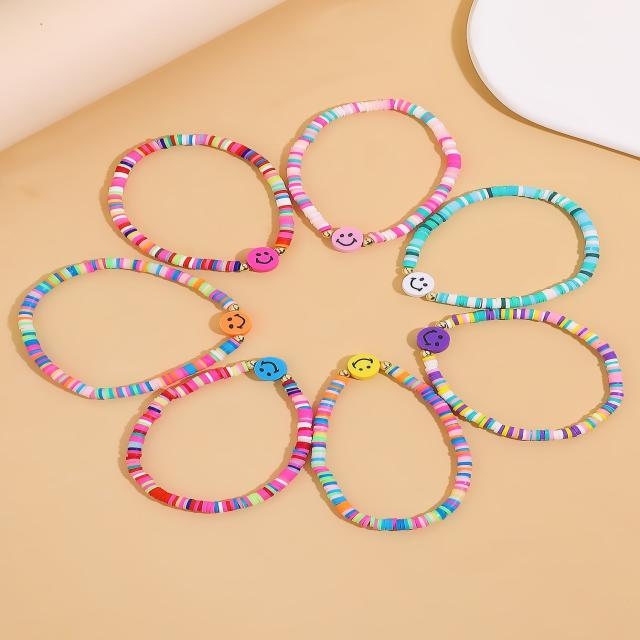bracelet: (78, 88, 315, 288), (7, 242, 266, 418), (279, 62, 498, 270), (374, 136, 628, 310), (106, 336, 314, 532), (296, 335, 482, 549), (404, 306, 640, 458)
